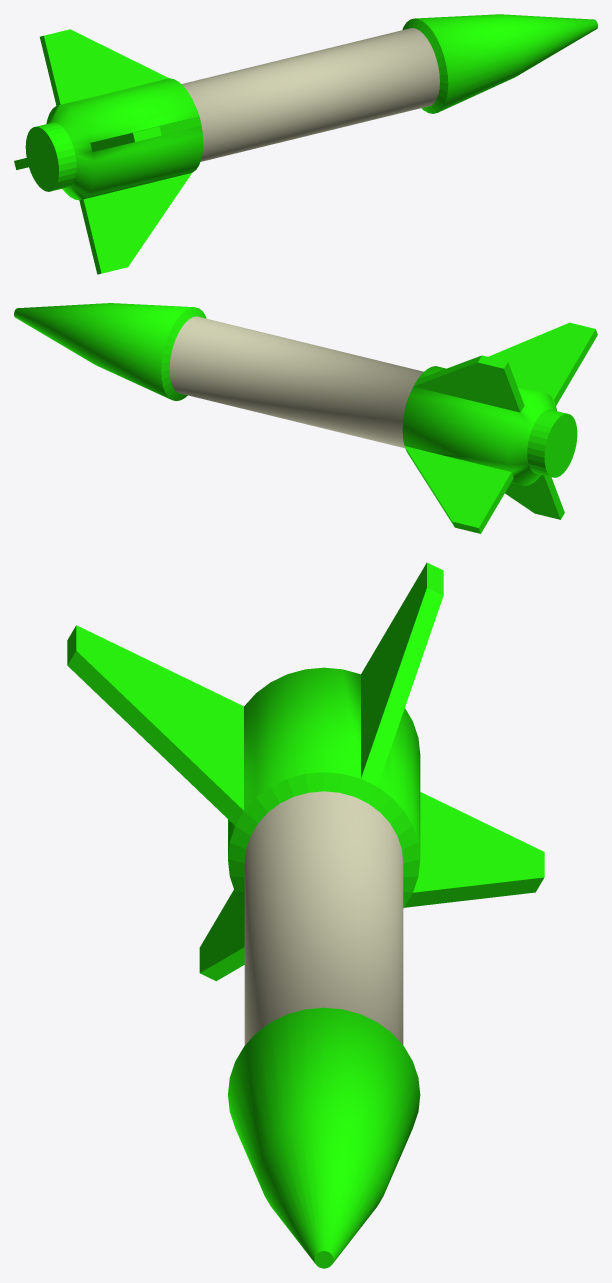
Rendered from bullet2.fbx.
3 views of the same model, one above another, from view 1: azimuth 30°, elevation 25°; view 2: azimuth 150°, elevation 25°; view 3: azimuth 270°, elevation 25° (orthographic). The views are drawn at different scales.
Parts seen in each view (by area): view 1: Cylinder; view 2: Cylinder; view 3: Cylinder.
Part boxes in pixels (x1,y1,x2,y2): Cylinder: (14,14,597,274); Cylinder: (14,303,597,533); Cylinder: (67,562,544,1268).
Size of the model in its own units: 1307 by 451 by 496.
